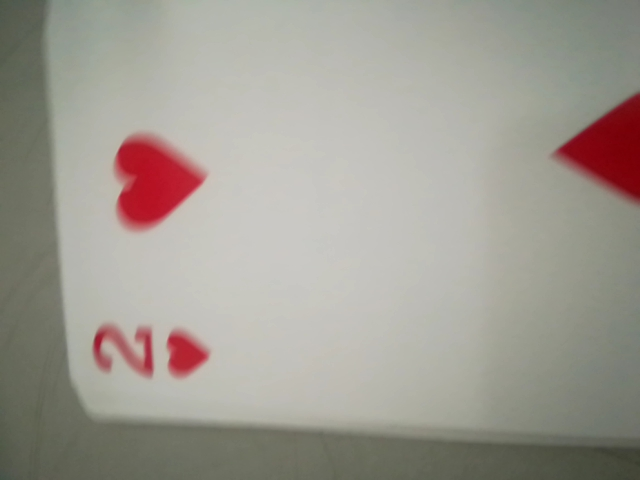hx 2: (90, 309, 228, 396)
